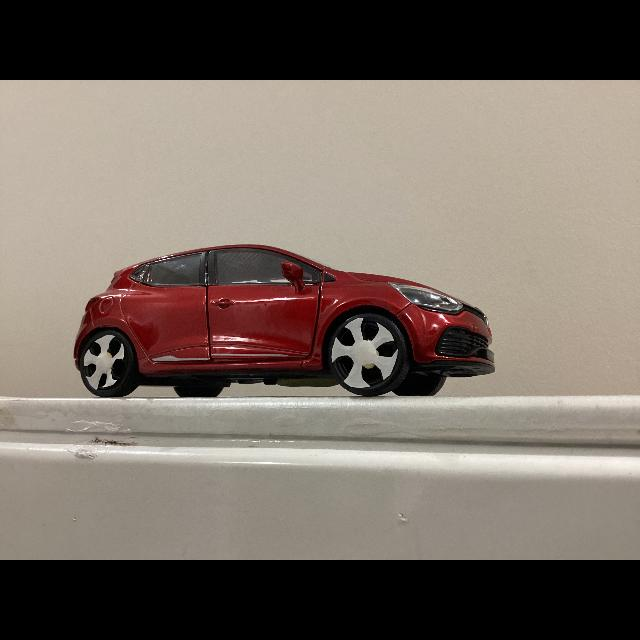Yanlis_Jant: (332, 316, 398, 388), (82, 334, 126, 392)
